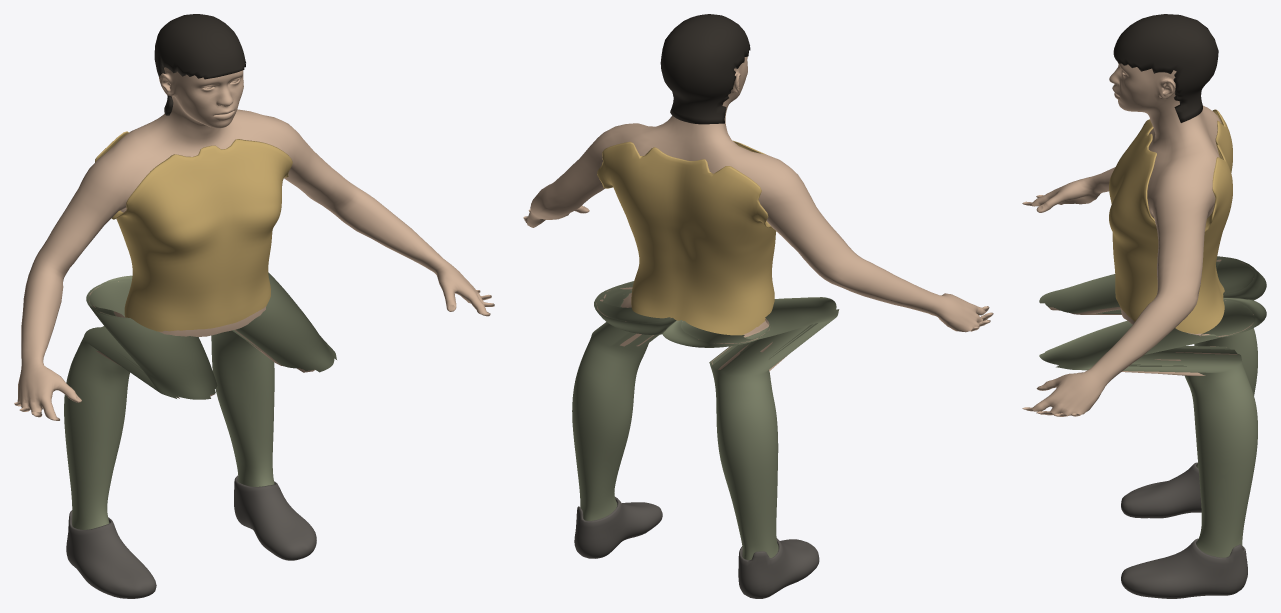
Rendered from charB-crouch.glb.
3 views of the same model, side by side, from view 1: azimuth 30°, elevation 25°; view 2: azimuth 150°, elevation 25°; view 3: azimuth 270°, elevation 25° (orthographic). The views are drawn at different scales.
Visible parts, largest first — view 1: Human, pants, shirt, shoes, hair; view 2: pants, shirt, Human, hair, shoes; view 3: pants, Human, shirt, shoes, hair.
Part boxes in pixels (left/top/right/bottom): Human: left=14, top=67, right=494, bottom=420; pants: left=64, top=272, right=336, bottom=529; shirt: left=95, top=131, right=292, bottom=331; shoes: left=66, top=475, right=316, bottom=598; hair: left=154, top=14, right=245, bottom=115; pants: left=572, top=281, right=839, bottom=560; shirt: left=597, top=140, right=776, bottom=335; Human: left=523, top=56, right=993, bottom=371; hair: left=660, top=14, right=750, bottom=124; shoes: left=574, top=497, right=819, bottom=598; pants: left=1039, top=256, right=1266, bottom=557; Human: left=1022, top=62, right=1253, bottom=416; shirt: left=1109, top=109, right=1232, bottom=333; shoes: left=1121, top=462, right=1247, bottom=598; hair: left=1113, top=14, right=1218, bottom=122.
Bounding box in the file's own units: 1.1 × 1.22 × 0.5074.
